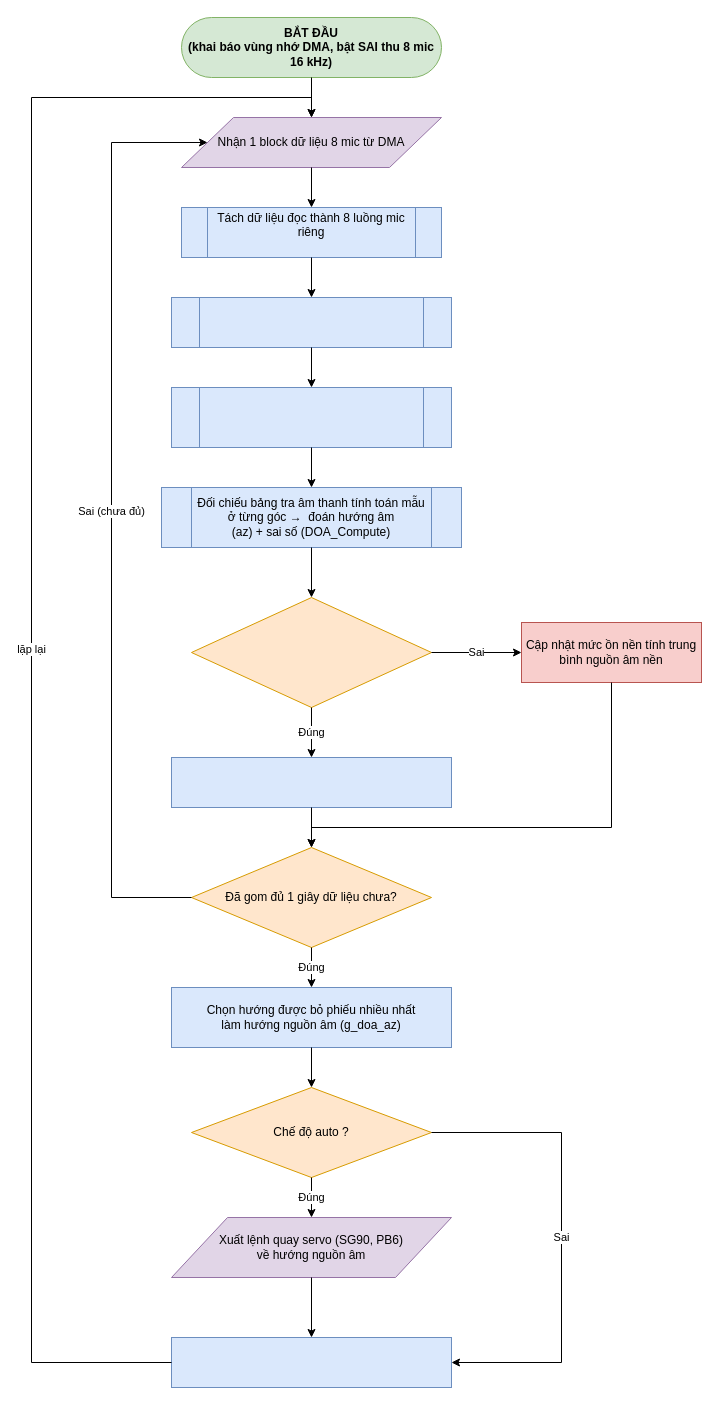
This 719x1405 diagram has some shape labels left out. Here are the shapes that lost their labels. From the top down, the centre of each, then its label:
At (x=311, y=322): "Biến đổi FFT từng kênh mic".
At (x=311, y=417): "Tính độ trễ giữa 4 cặp mic đối nhau (GCC-PHAT) → lag[0..3]".
At (x=311, y=652): "Âm thanh lớn hơn nền nhiễu? âm nhận được > ngưỡng".
At (x=311, y=782): "Bỏ phiếu cho hướng vừa đoán được".
At (x=311, y=1362): "Xóa phiếu, bắt đầu gom 1 giây mới".
